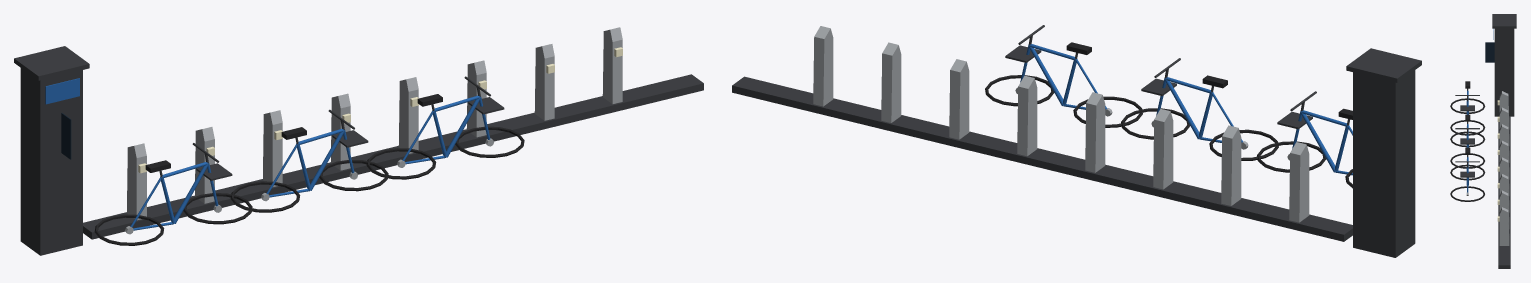
3 renders of one model, left to right at view 1: azimuth 30°, elevation 25°; view 2: azimuth 150°, elevation 25°; view 3: azimuth 270°, elevation 25°, orthographic. The views are drawn at different scales.
Parts seen in each view (by area): view 1: baseOffset=0;depth=1.8;height=1.2;material=steel_dark;power= (×6); view 2: baseOffset=0;depth=1.8;height=1.2;material=steel_dark;power= (×4); view 3: baseOffset=0;depth=1.8;height=1.2;material=steel_dark;power= (×6).
Boxes of the visible parts, x1=… form: baseOffset=0;depth=1.8;height=1.2;material=steel_dark;power= (×6): x1=14, y1=27, x2=703, y2=255; baseOffset=0;depth=1.8;height=1.2;material=steel_dark;power= (×4): x1=732, y1=25, x2=1421, y2=257; baseOffset=0;depth=1.8;height=1.2;material=steel_dark;power= (×6): x1=1450, y1=14, x2=1516, y2=268.
Bounding box in the file's own units: 7.9 × 1.36 × 2.05.
